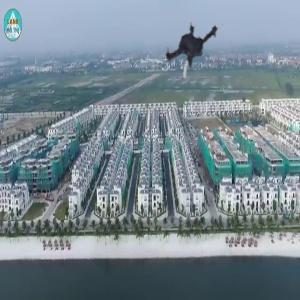drone: (151, 12, 231, 92)
